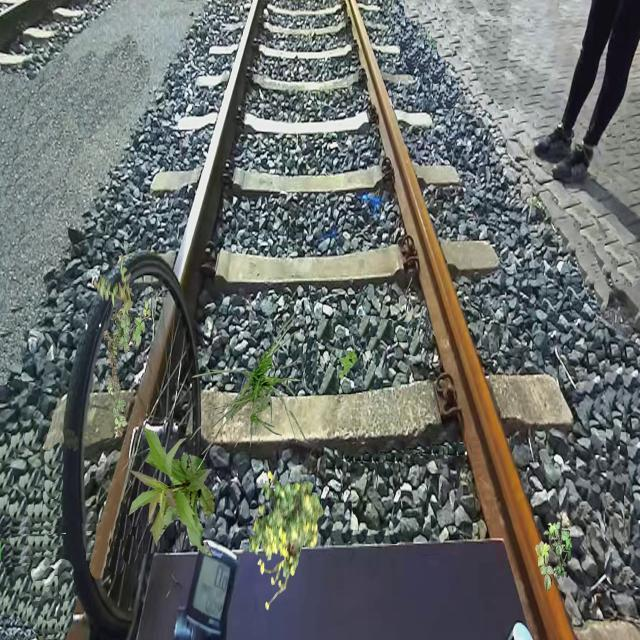Plant: (190, 308, 308, 472), (127, 427, 216, 557), (249, 471, 324, 611), (104, 301, 152, 439), (93, 256, 134, 328), (535, 518, 572, 592), (338, 347, 358, 380)
